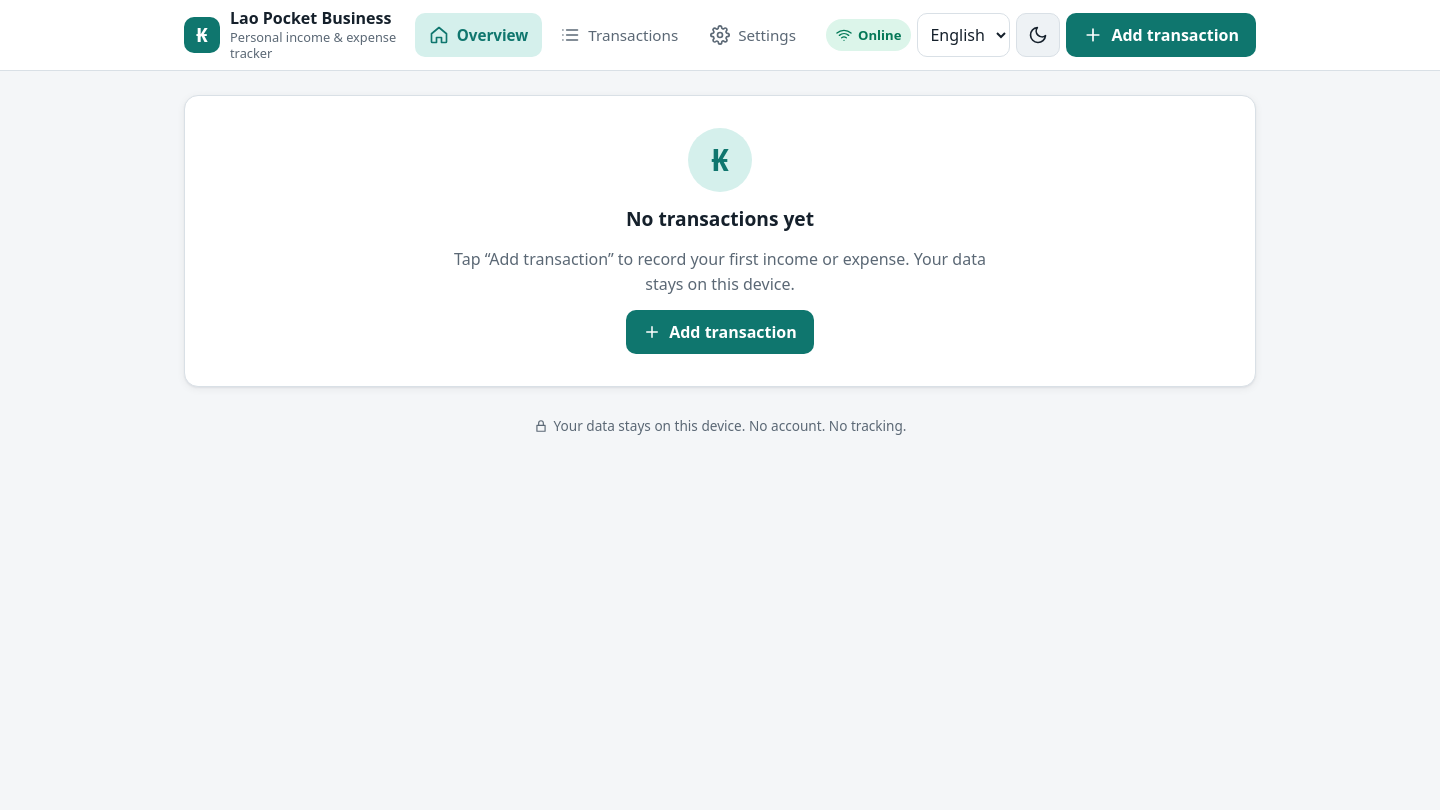
Test: Settings: offline use & install › reports when service workers are unsupported
Click the button "Settings" at [753, 35], box [696,13,810,57]
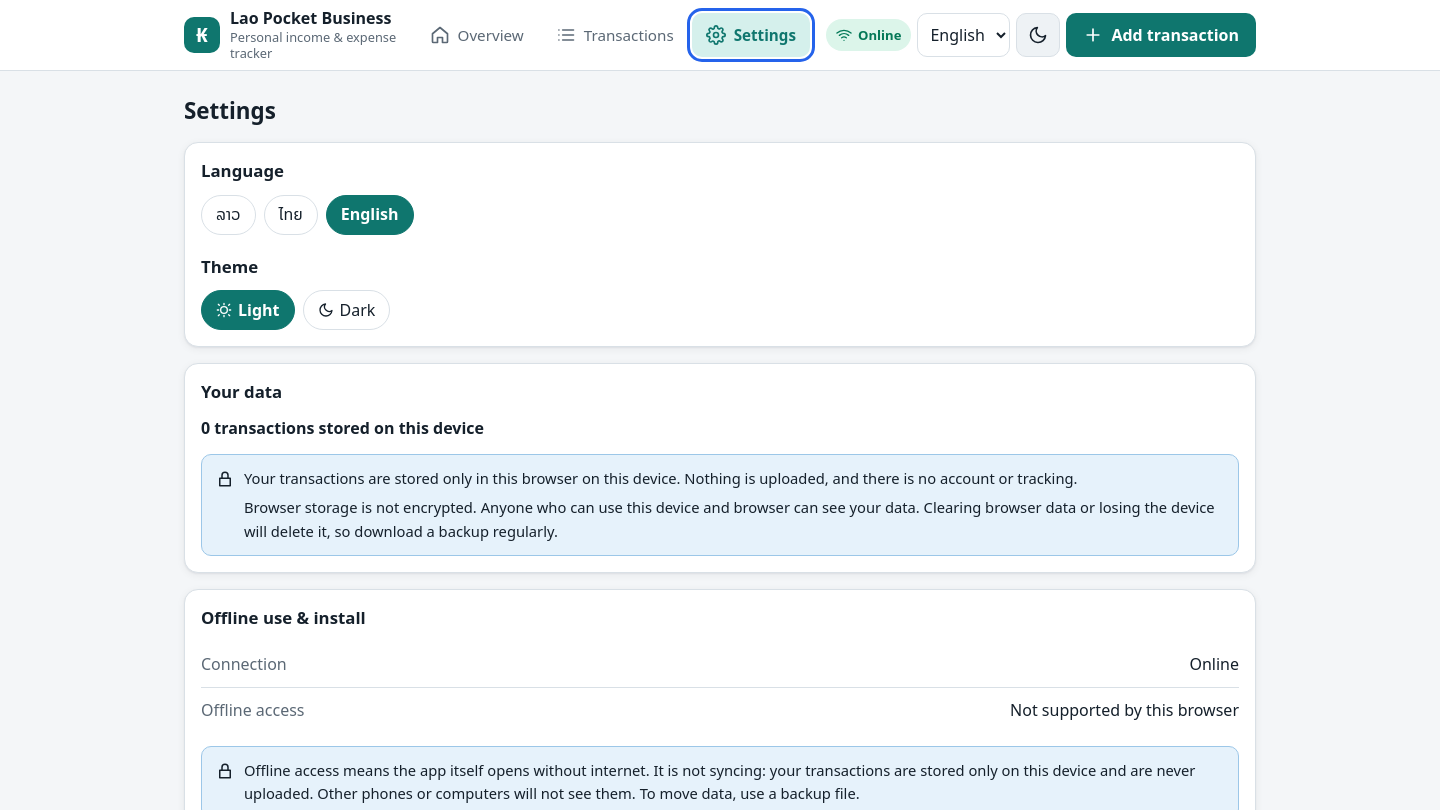
Expected: the text with test id "offline-access-status" reads "Not supported by this browser", [1010,699,1239,721]
